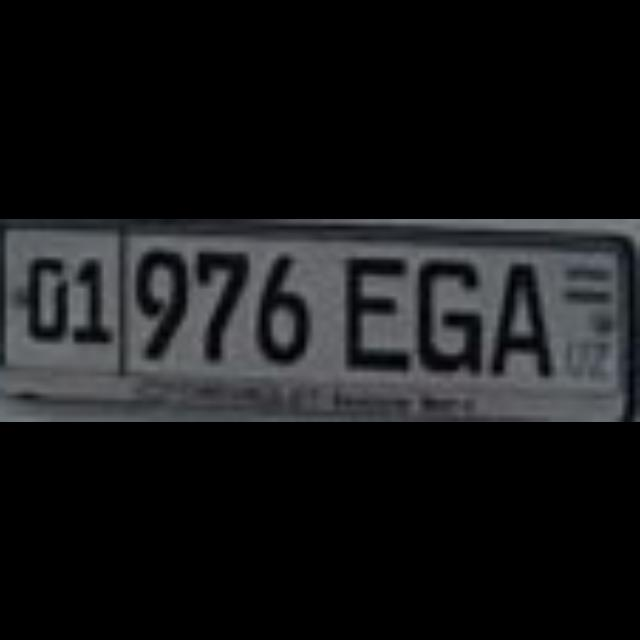0: (22, 246, 62, 332)
1: (62, 246, 108, 332)
6: (250, 246, 306, 360)
7: (186, 240, 244, 354)
9: (125, 240, 182, 354)
A: (482, 252, 544, 371)
E: (334, 247, 408, 366)
G: (408, 252, 476, 360)
